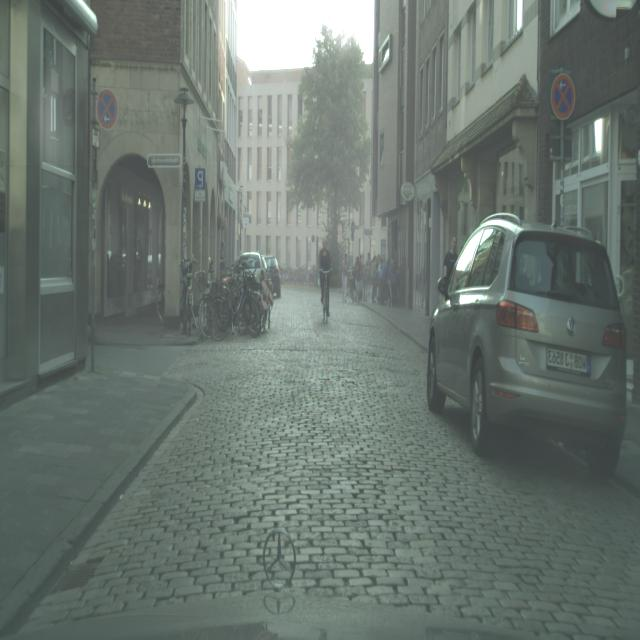car: (179, 256, 197, 336), (320, 270, 330, 322)
person: (318, 238, 332, 317), (442, 234, 458, 279), (379, 256, 391, 305), (354, 254, 363, 304), (371, 254, 379, 302), (363, 254, 371, 300), (342, 254, 349, 302)
truck: (426, 211, 627, 479), (232, 251, 274, 298), (263, 255, 281, 298)
